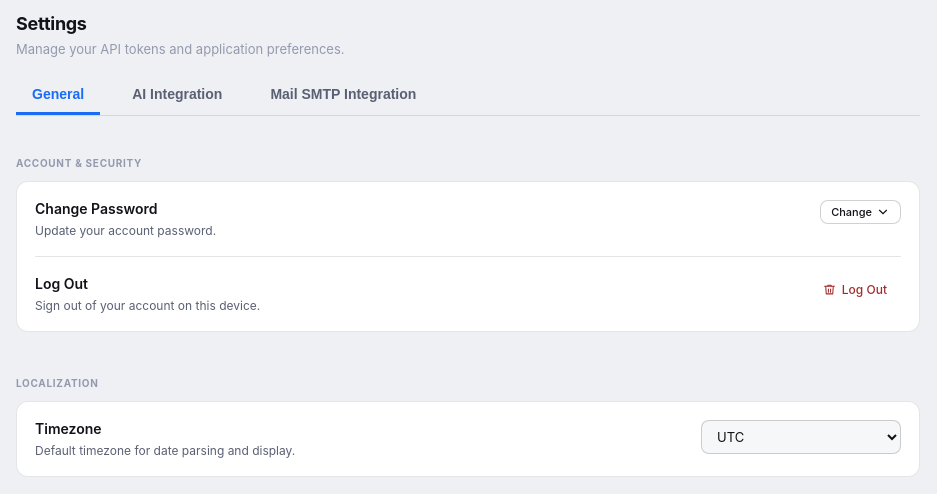
it: SettingsPage › can switch to Mail SMTP tab
Click the button "Mail SMTP Integration".
click(343, 95)  # box [254,76,432,114]
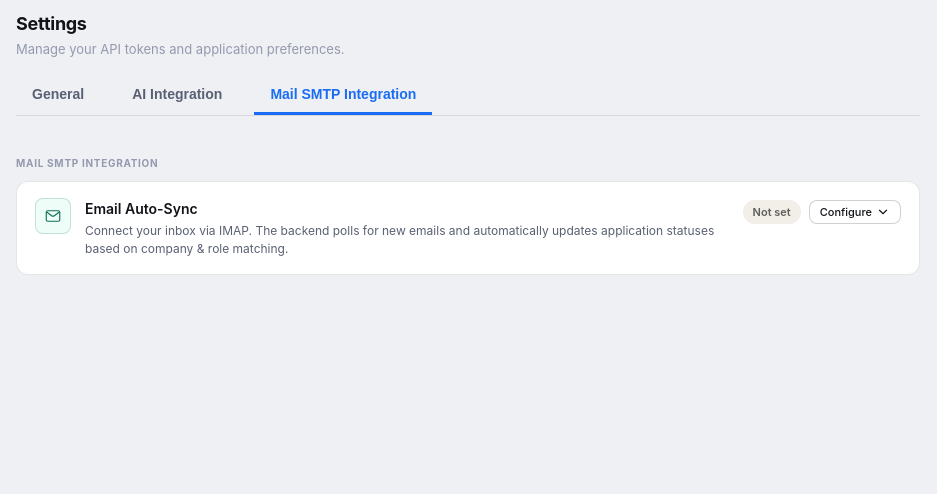
Expected: the text "Email Auto-Sync" is shown, [85,200,198,216]
Expected: the button "Configure" is shown, [809,200,901,224]
